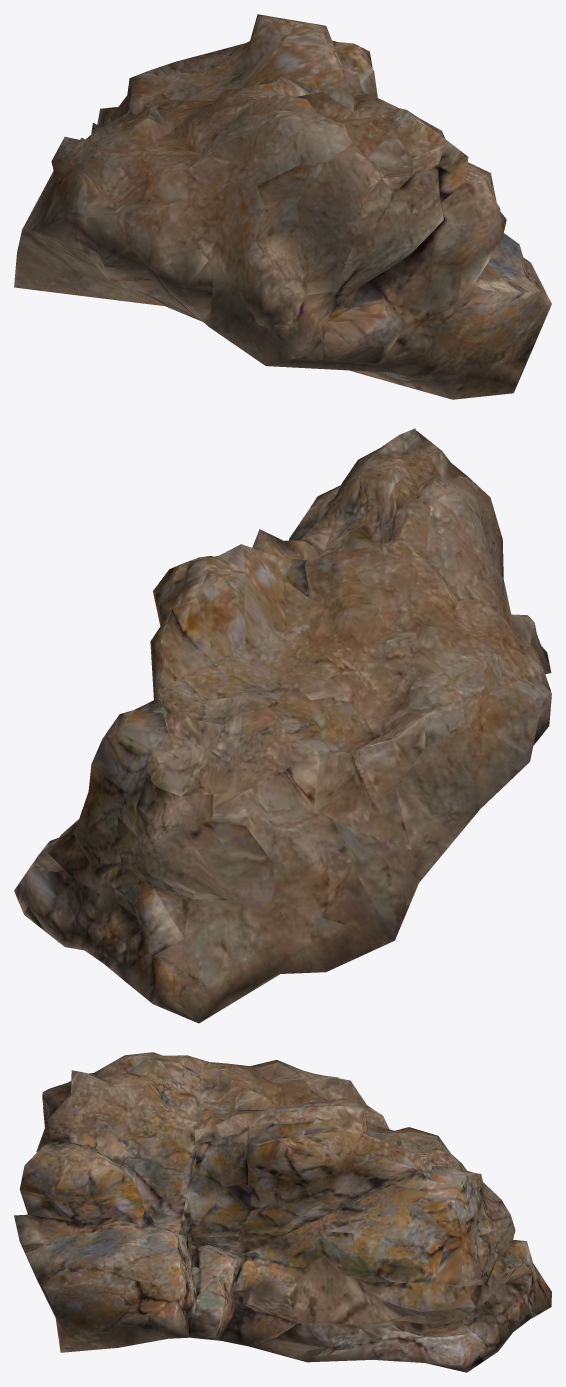
The model's file is prock_a.glb.
3 views of the same model, one above another, from view 1: azimuth 30°, elevation 25°; view 2: azimuth 150°, elevation 25°; view 3: azimuth 270°, elevation 25° (orthographic). The views are drawn at different scales.
Parts seen in each view (by area): view 1: prock_a; view 2: prock_a; view 3: prock_a.
Boxes of the visible parts, x1,y1,x2,y2 form: prock_a: [14, 14, 551, 399]; prock_a: [14, 428, 551, 1023]; prock_a: [14, 1052, 551, 1372].
Size of the model in its own units: 1.55 by 1.22 by 2.2.
Materials: 1 (1 with a texture image).
